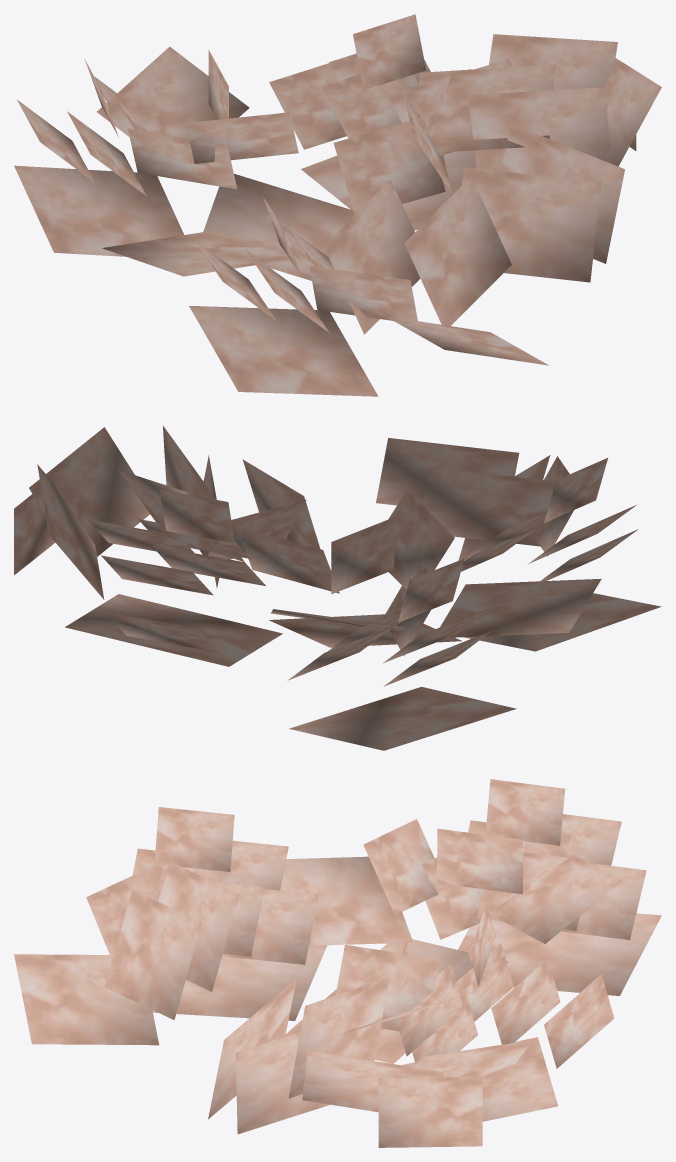
File: stg220_MotCloud_04.obj
3 renders of one model, top to bottom at view 1: azimuth 30°, elevation 25°; view 2: azimuth 150°, elevation 25°; view 3: azimuth 270°, elevation 25°, orthographic. The views are drawn at different scales.
Parts seen in each view (by area): view 1: polygon22, polygon31, polygon9, polygon28, polygon30, polygon10, polygon2, polygon35, polygon20, polygon12, polygon32, polygon34 (+18 smaller); view 2: polygon20, polygon9, polygon11, polygon33, polygon14, polygon28, polygon0, polygon4, polygon35, polygon34, polygon22, polygon16 (+25 smaller); view 3: polygon29, polygon28, polygon11, polygon9, polygon37, polygon22, polygon2, polygon30, polygon32, polygon20, polygon4, polygon19 (+24 smaller).
Boxes of the visible parts, left/top/right/bottom form: polygon22: left=189, top=305, right=378, bottom=396; polygon31: left=462, top=167, right=601, bottom=282; polygon9: left=14, top=165, right=183, bottom=256; polygon28: left=404, top=176, right=511, bottom=325; polygon30: left=468, top=87, right=612, bottom=171; polygon10: left=203, top=173, right=354, bottom=280; polygon2: left=97, top=46, right=249, bottom=172; polygon35: left=333, top=117, right=445, bottom=214; polygon20: left=323, top=179, right=420, bottom=334; polygon12: left=419, top=64, right=555, bottom=152; polygon32: left=501, top=124, right=624, bottom=263; polygon34: left=489, top=34, right=617, bottom=89; polygon20: left=422, top=467, right=555, bottom=546; polygon9: left=289, top=686, right=516, bottom=750; polygon11: left=440, top=578, right=601, bottom=637; polygon33: left=29, top=427, right=149, bottom=556; polygon14: left=65, top=594, right=282, bottom=666; polygon28: left=376, top=438, right=519, bottom=505; polygon0: left=388, top=490, right=454, bottom=589; polygon4: left=331, top=517, right=394, bottom=594; polygon35: left=242, top=528, right=339, bottom=593; polygon34: left=37, top=464, right=104, bottom=599; polygon22: left=464, top=593, right=661, bottom=651; polygon16: left=159, top=489, right=234, bottom=543; polygon29: left=14, top=954, right=159, bottom=1045; polygon28: left=104, top=889, right=201, bottom=1020; polygon11: left=280, top=856, right=413, bottom=945; polygon9: left=458, top=913, right=661, bottom=995; polygon37: left=378, top=1076, right=482, bottom=1147; polygon22: left=152, top=945, right=327, bottom=1020; polygon2: left=489, top=846, right=621, bottom=943; polygon30: left=288, top=977, right=389, bottom=1098; polygon32: left=235, top=1032, right=329, bottom=1134; polygon20: left=158, top=861, right=239, bottom=991; polygon4: left=437, top=828, right=522, bottom=894; polygon19: left=335, top=944, right=440, bottom=1031.
Bounding box in the file's own units: 3947 × 1331 × 4144.
Materials: 1 (1 with a texture image).
